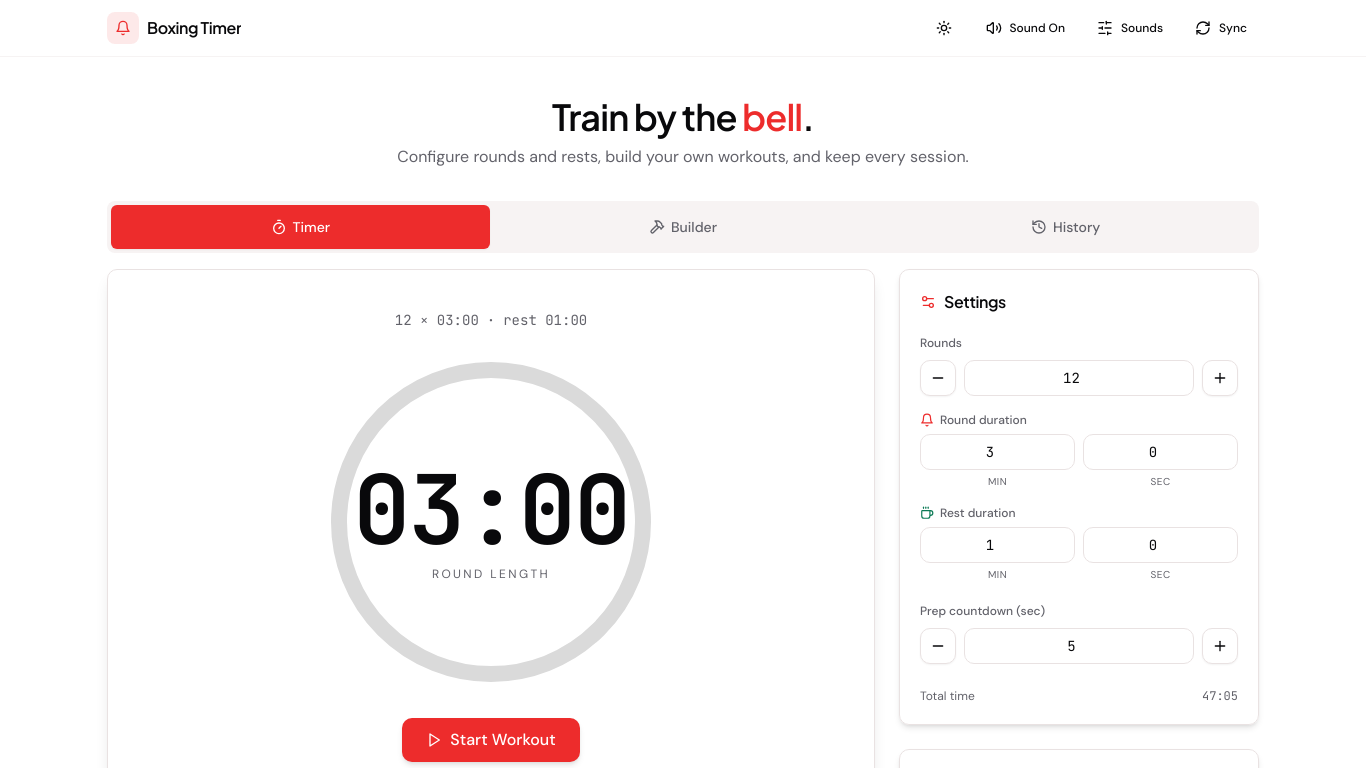
Test: BoxingApp sound settings surface › opens sound settings as a dialog at 640 px and up
What coordinates should you click on to do the following:
click the button with aria-label "sound settings"
I would click on:
 (1130, 28)
Its box is [1085,6,1175,50].
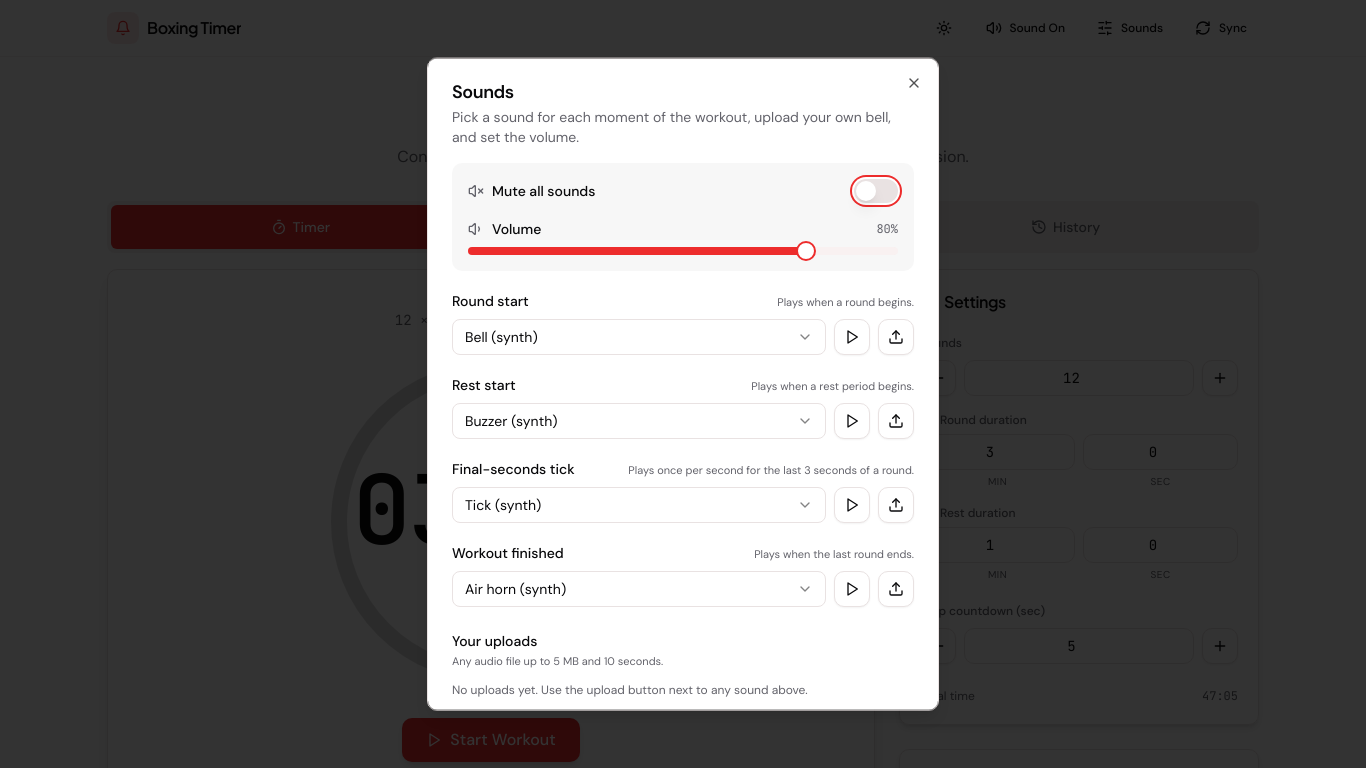
Check: the switch named "mute all sounds" is shown, box [854,179,898,203]
